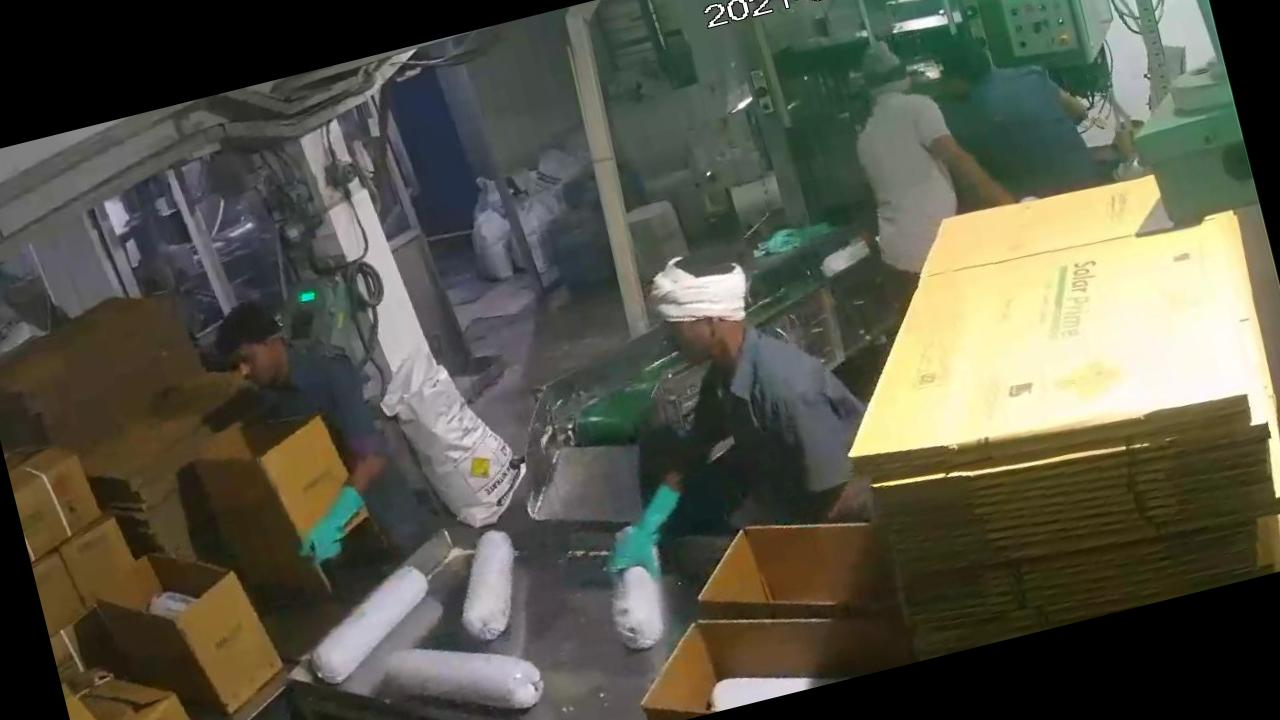Gloves: (579, 461, 713, 594), (274, 474, 392, 578)
No-gloves: (906, 102, 1034, 231)
